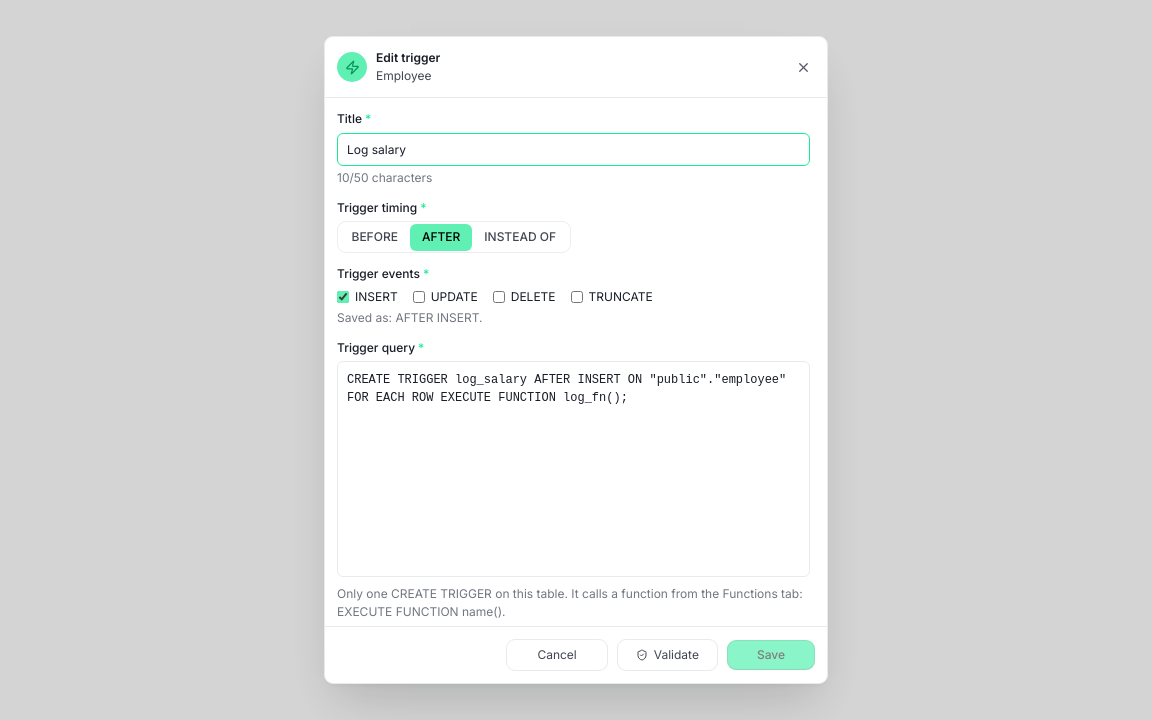
Test: AutomationFormModal › validating › shows Validate first, then Run in its place once the query passes
Click the button "Validate" at [667, 655], box [617,639,718,671]
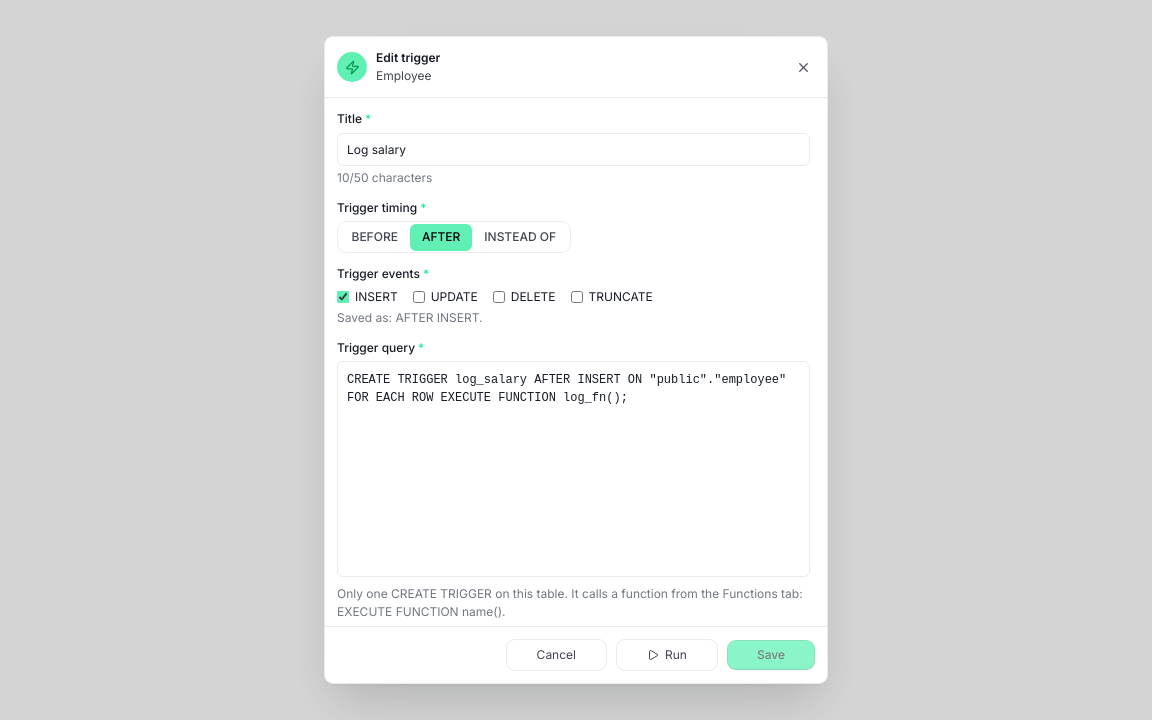
expect the button "Validate" is gone: met
